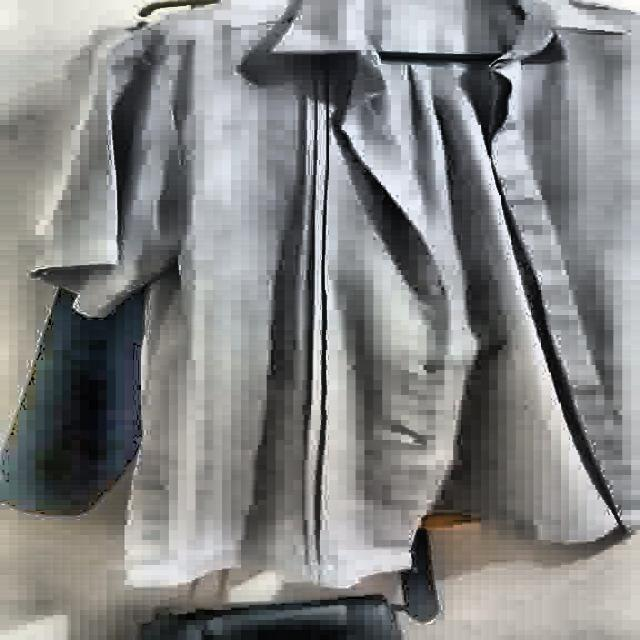clothes: (24, 0, 640, 586)
